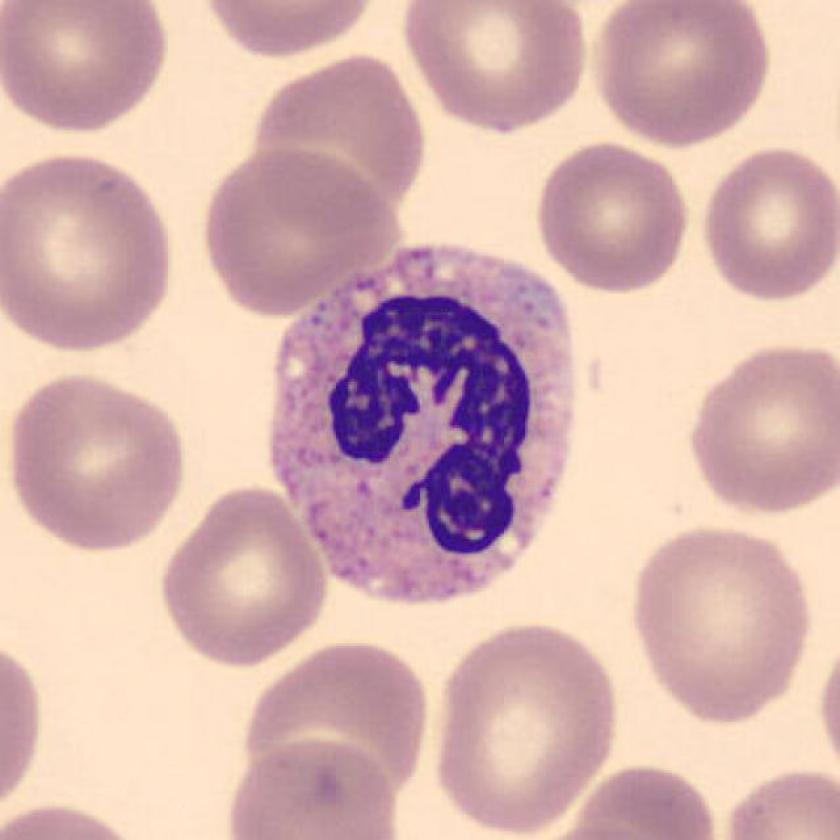neutrophil: (275, 244, 571, 609)
